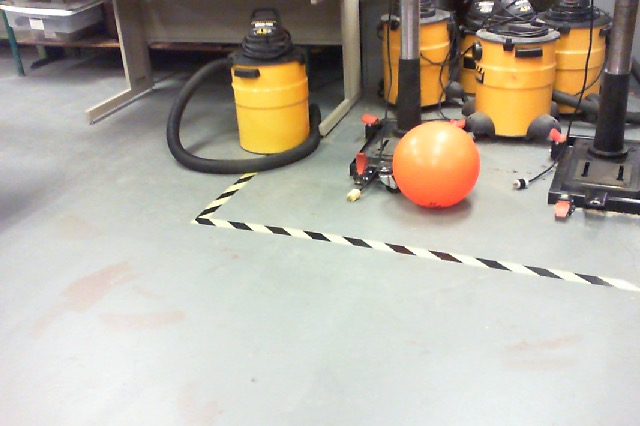Ball: (392, 120, 480, 207)
